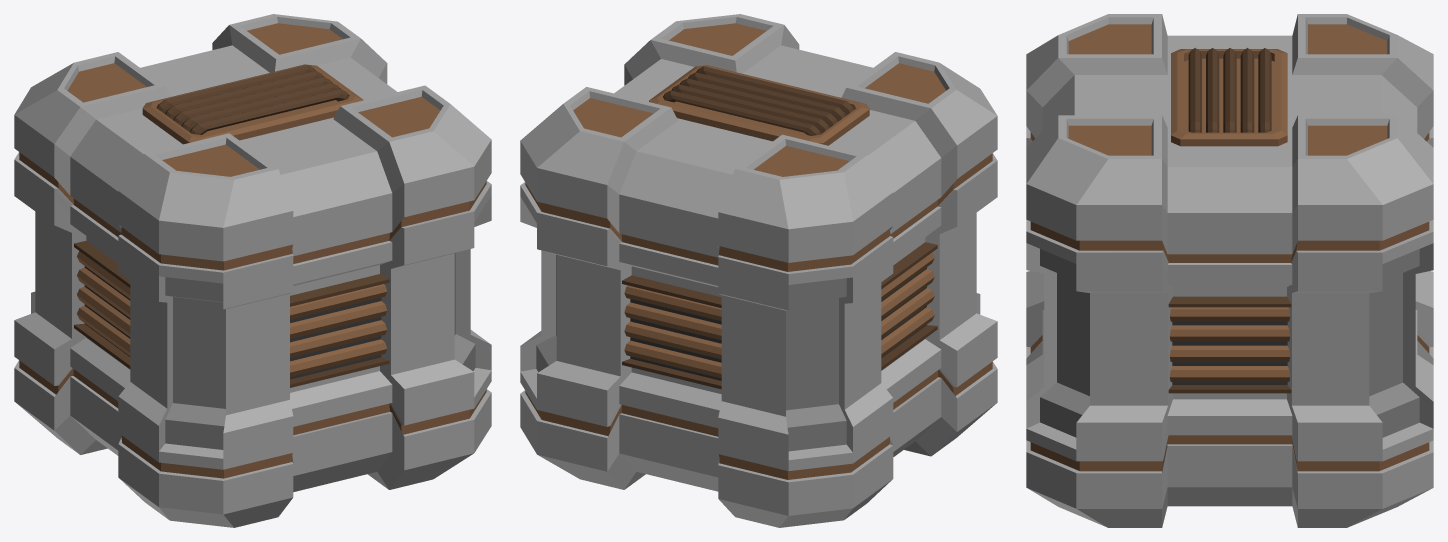
Rendered from Crate.fbx.
3 views of the same model, side by side, from view 1: azimuth 30°, elevation 25°; view 2: azimuth 150°, elevation 25°; view 3: azimuth 270°, elevation 25° (orthographic). The views are drawn at different scales.
Parts seen in each view (by area): view 1: Props_Crate.001; view 2: Props_Crate.001; view 3: Props_Crate.001.
Part boxes in pixels (x1,y1,x2,y2): Props_Crate.001: (14,14,491,527); Props_Crate.001: (520,14,997,527); Props_Crate.001: (1026,14,1433,527).
Size of the model in its own units: 0.7971 by 0.8055 by 0.7971.
